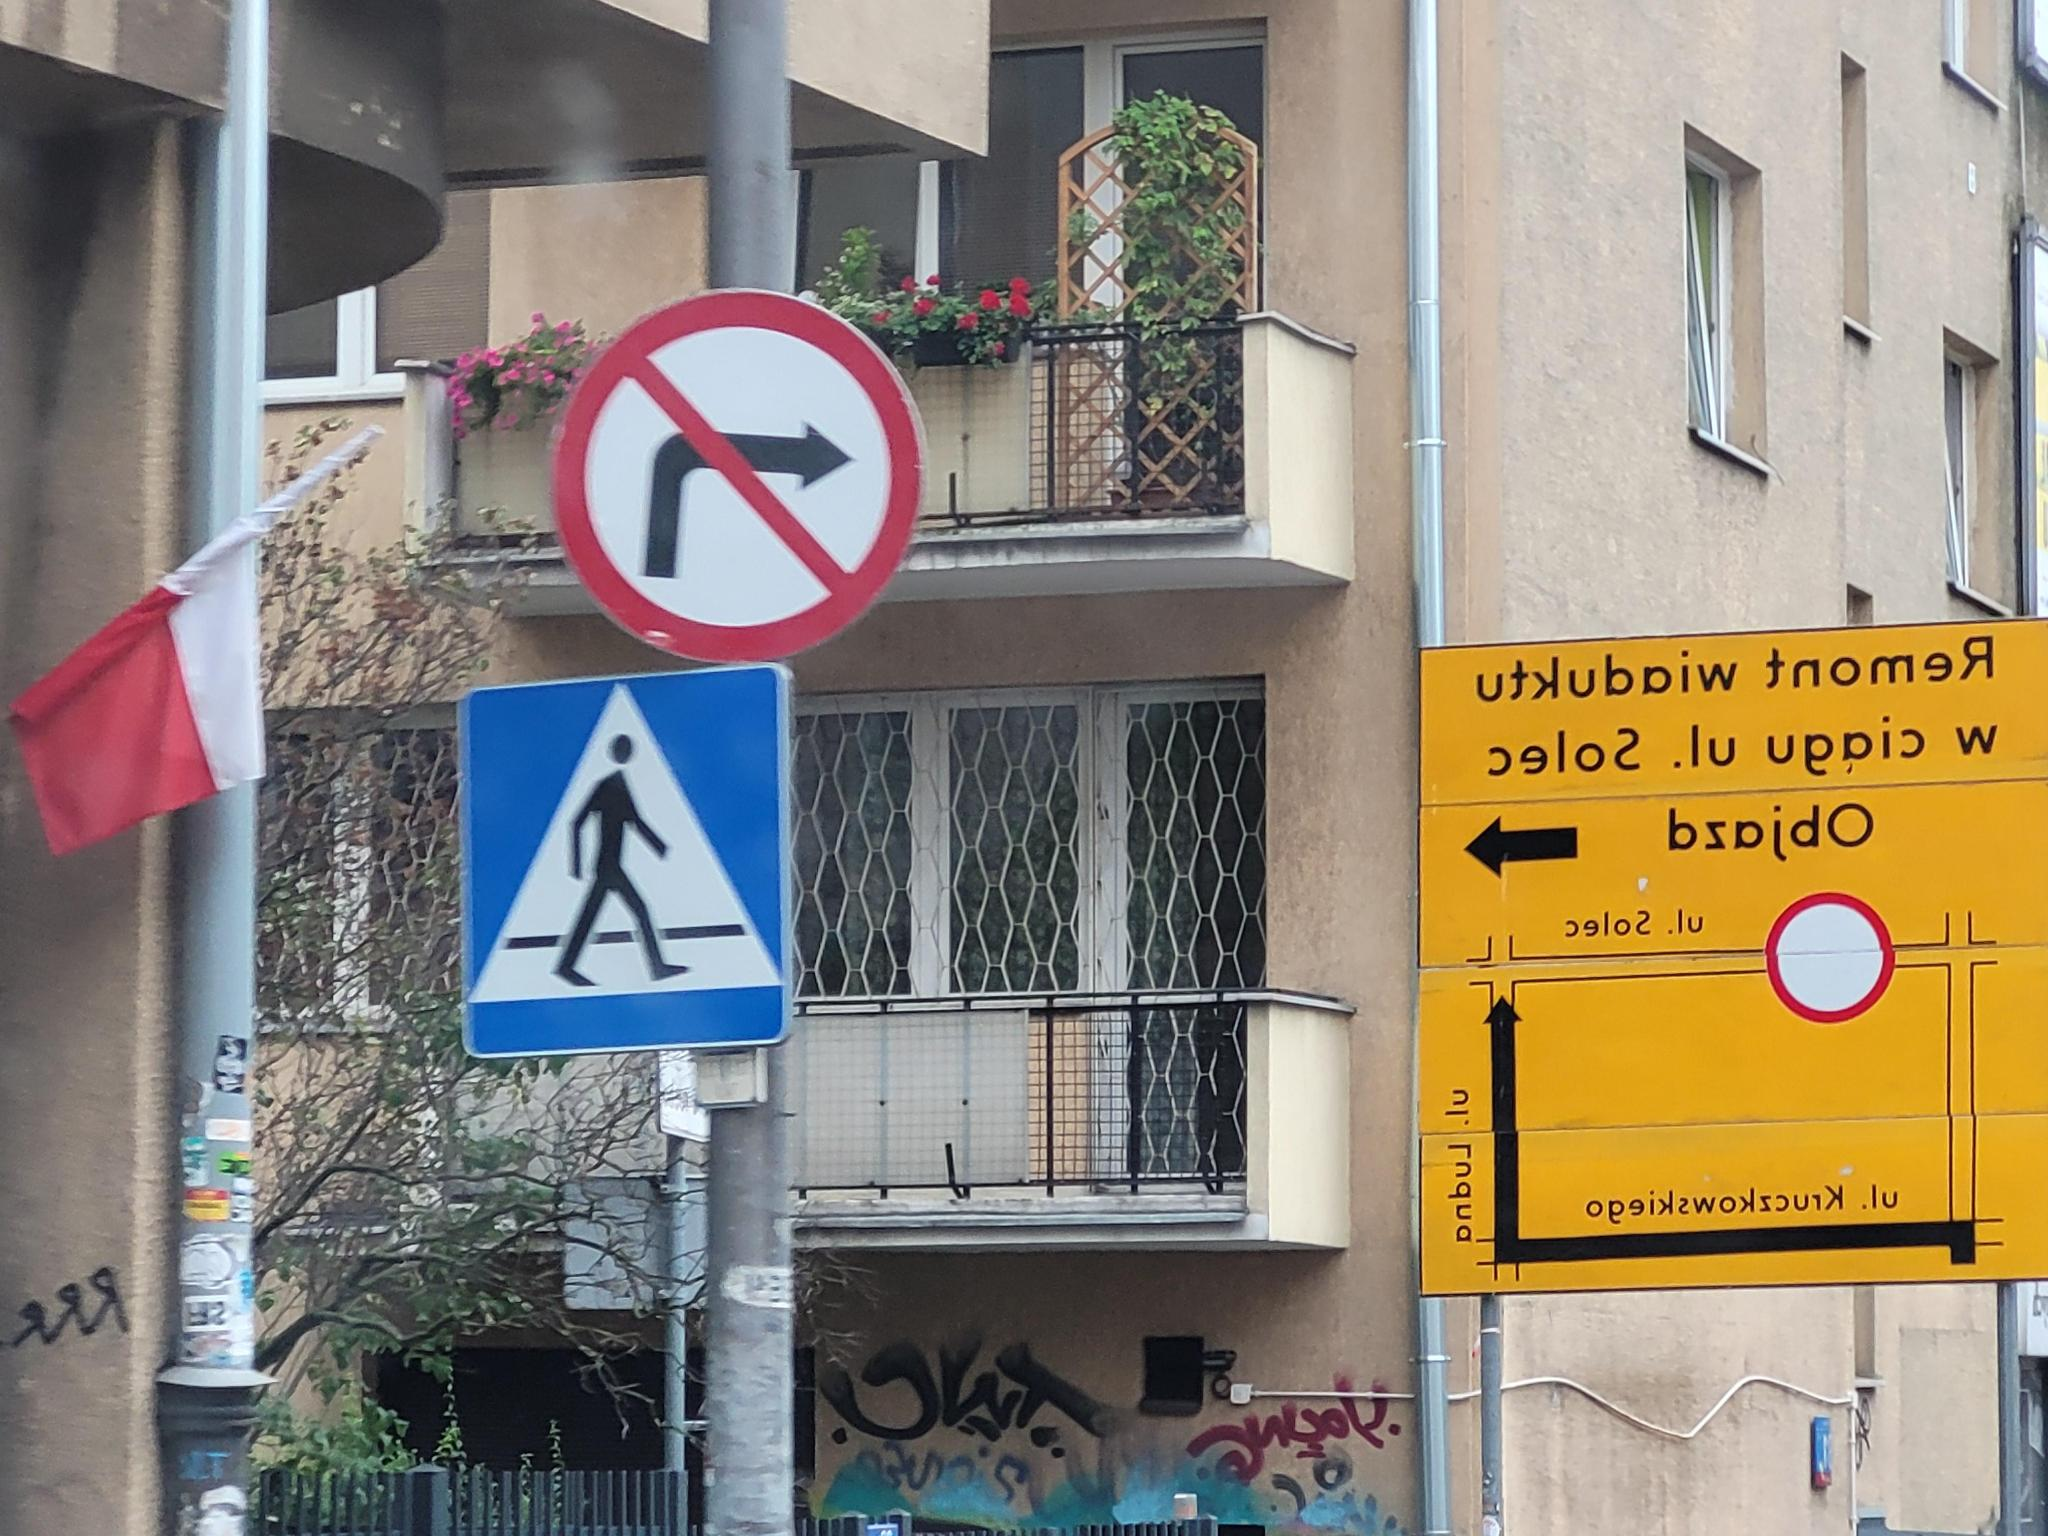information: (456, 673, 785, 1058)
other: (1408, 616, 2048, 1288)
prohibitory: (550, 290, 922, 668)
